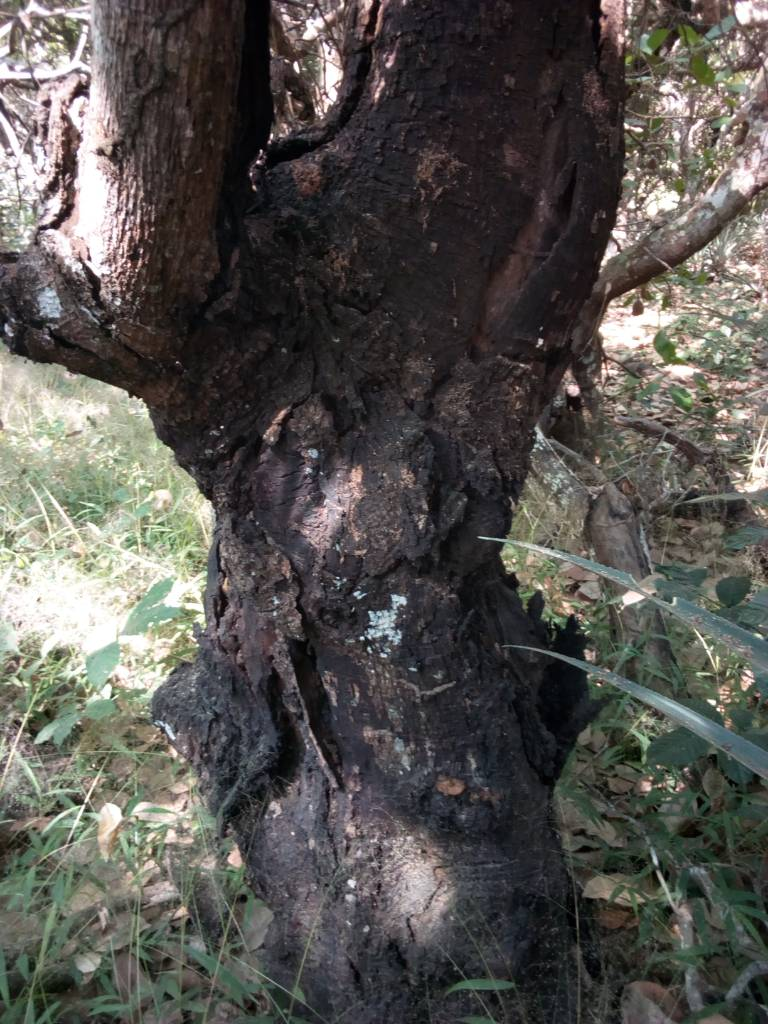Gommose: (225, 403, 560, 882), (285, 7, 624, 327)
